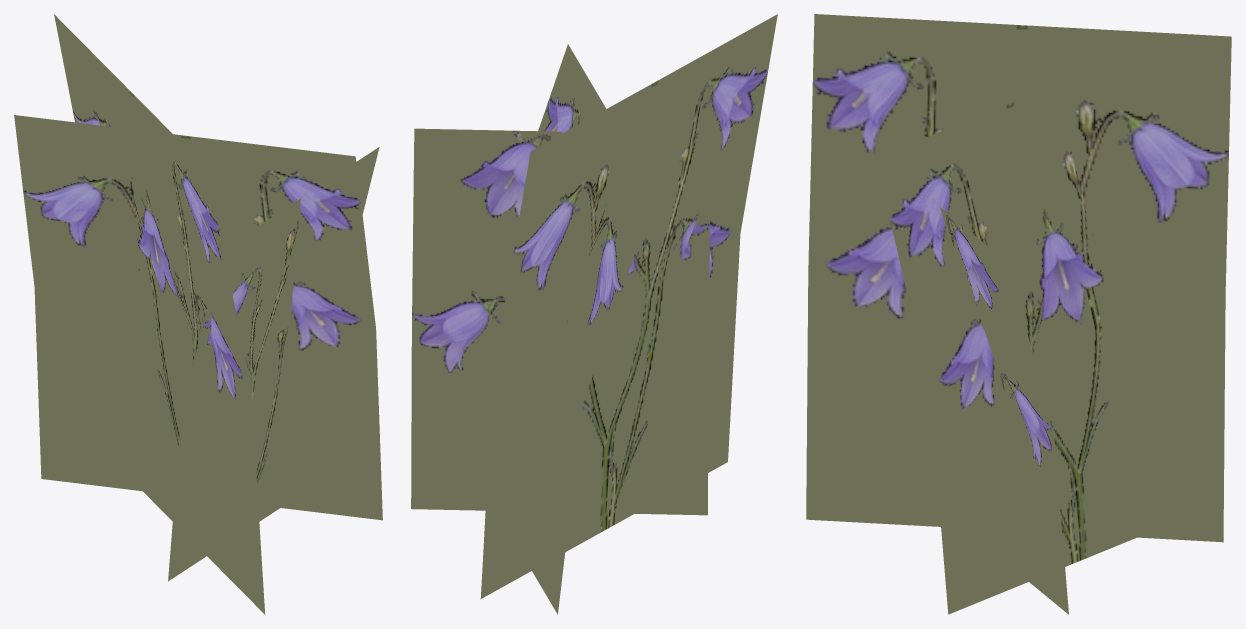
File: flowers_b.glb
3 views of the same model, side by side, from view 1: azimuth 30°, elevation 25°; view 2: azimuth 150°, elevation 25°; view 3: azimuth 270°, elevation 25° (orthographic). The views are drawn at different scales.
Visible parts, largest first — view 1: flowers_b; view 2: flowers_b; view 3: flowers_b.
Part boxes in pixels (<box>): flowers_b: <box>14,14,382,614</box>; flowers_b: <box>411,14,777,614</box>; flowers_b: <box>806,14,1231,614</box>.
Size of the model in its own units: 0.2767 by 0.3996 by 0.322.
Materials: 1 (1 with a texture image).
